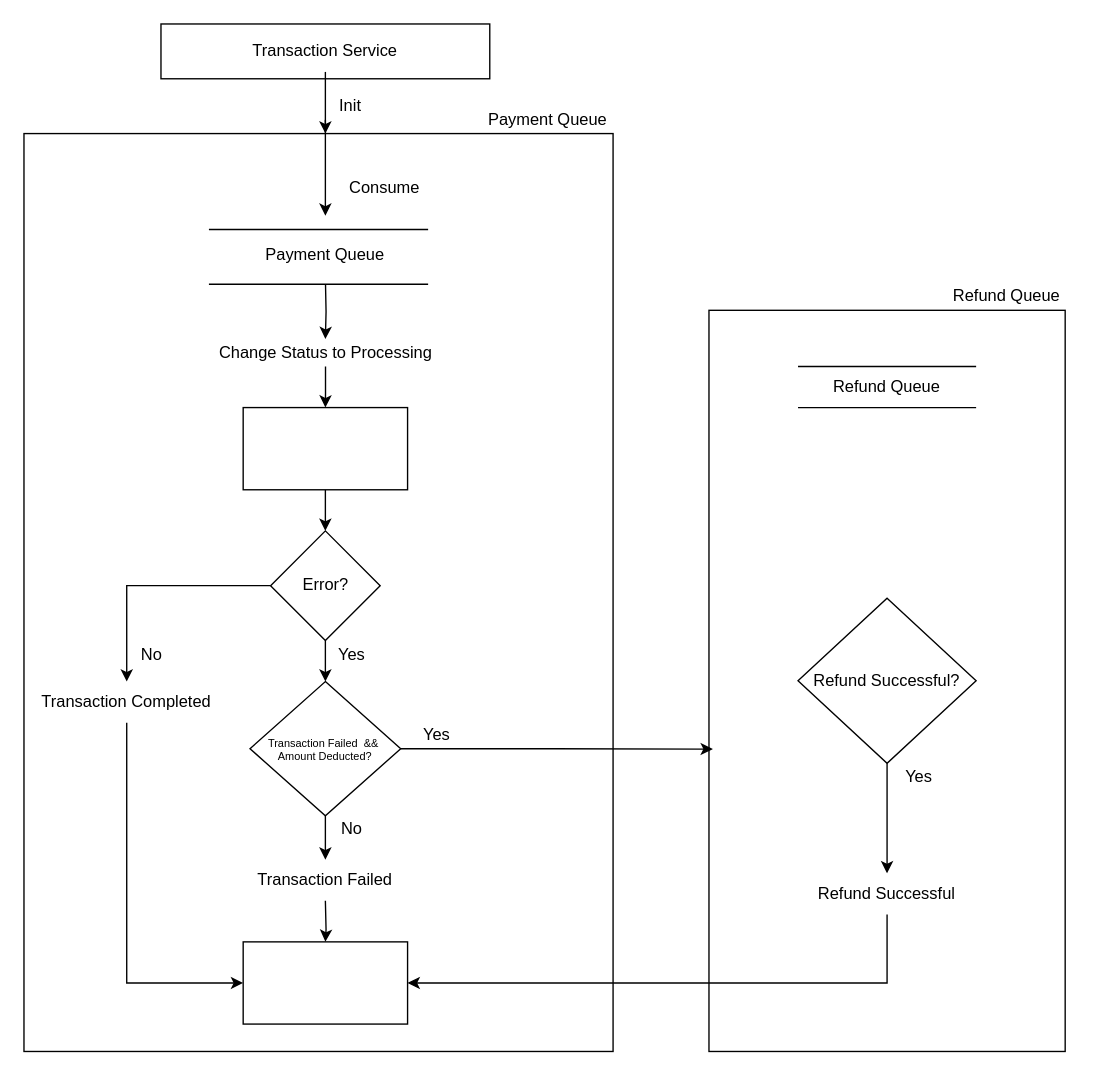
The diagram is 1096 pixels wide and 1075 high, and some of its shapes have lost their labels. The centre of each missing label's shape, as x and y in pixels:
"Change Status" belongs at [325,982].
"Process Transaction" belongs at [325,448].
